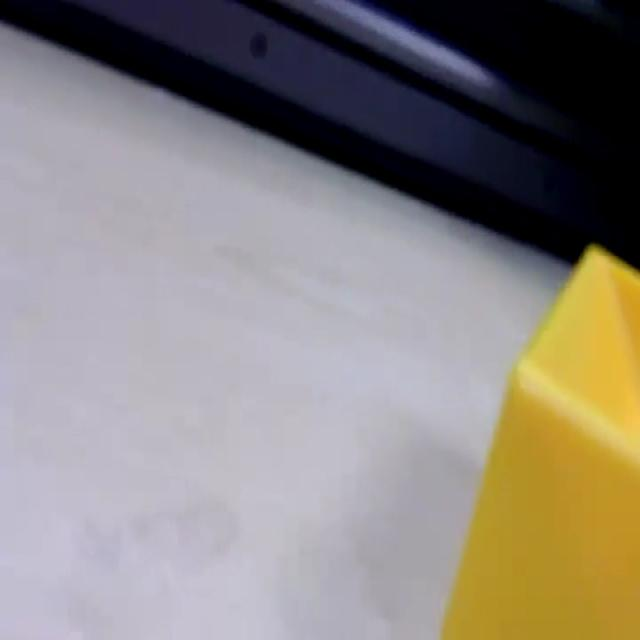yellow_block: (440, 241, 638, 636)
